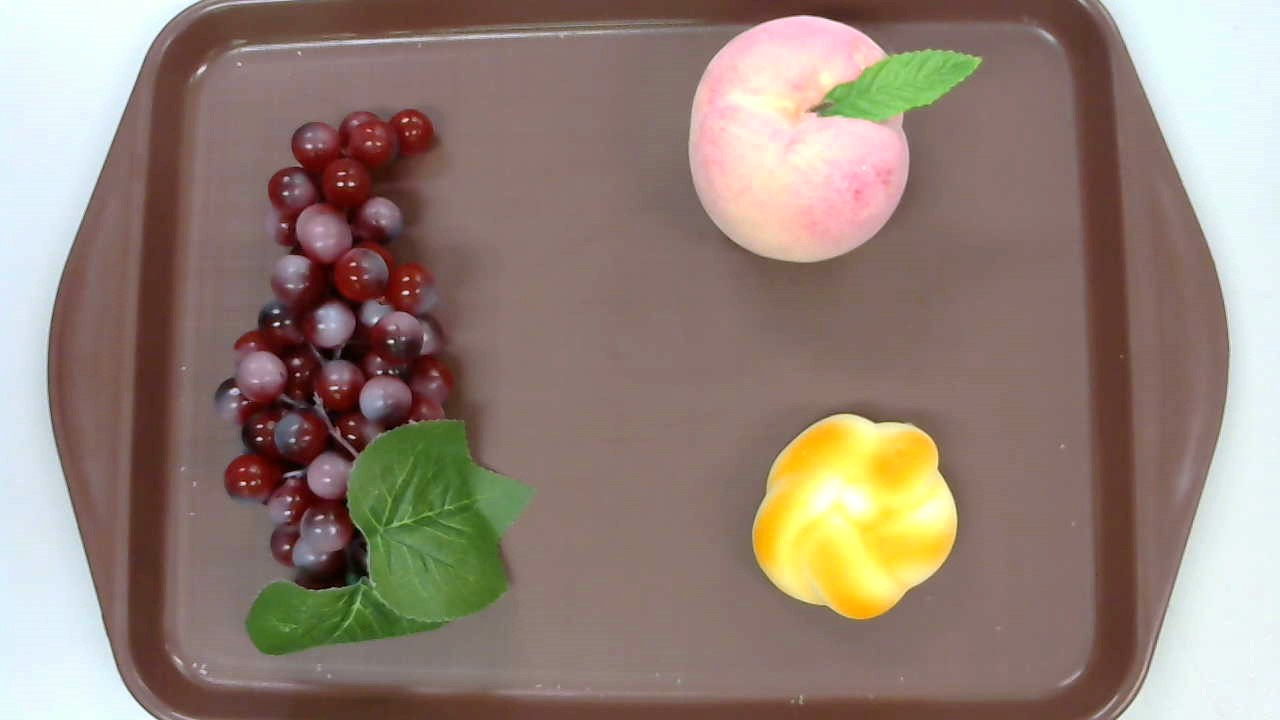grape: (213, 107, 538, 656)
peaches: (689, 14, 984, 263)
twist bread: (750, 413, 959, 622)
